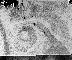CE: (10, 19, 47, 54)
